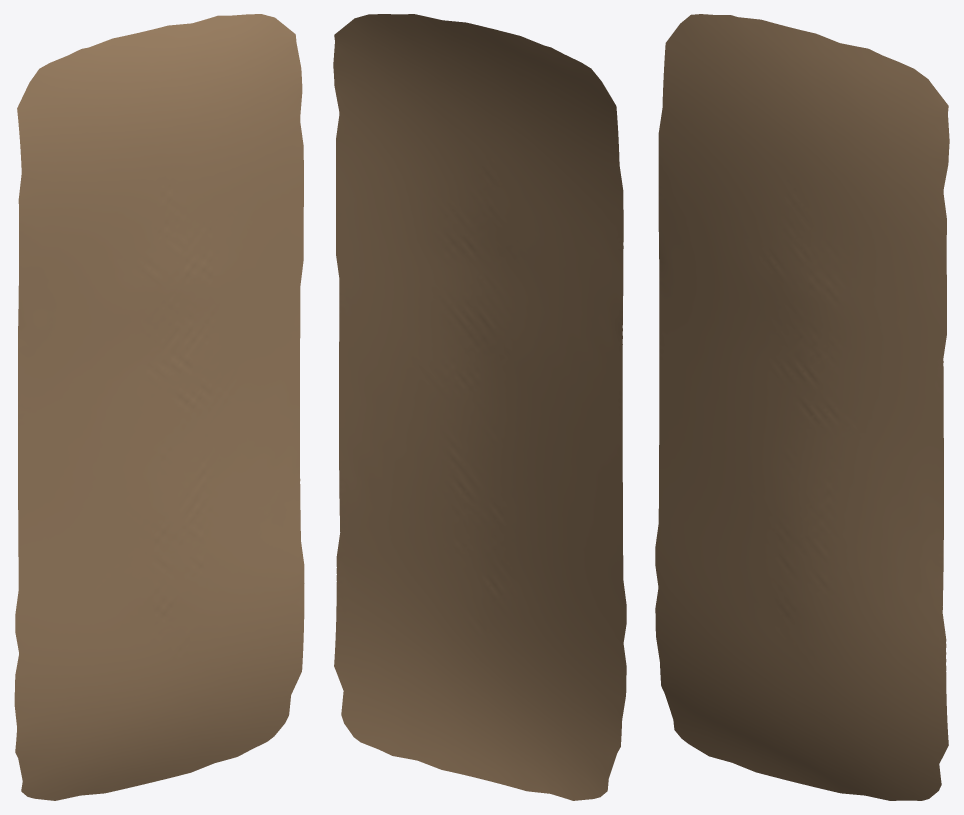
File: real_soda_can.glb
3 views of the same model, side by side, from view 1: azimuth 30°, elevation 25°; view 2: azimuth 150°, elevation 25°; view 3: azimuth 330°, elevation 25° (orthographic).
Parts seen in each view (by area): view 1: result-20251220_230811-soda_can; view 2: result-20251220_230811-soda_can; view 3: result-20251220_230811-soda_can.
Part boxes in pixels (x1=…): result-20251220_230811-soda_can: x1=14, y1=14, x2=304, y2=800; result-20251220_230811-soda_can: x1=333, y1=14, x2=626, y2=800; result-20251220_230811-soda_can: x1=655, y1=14, x2=949, y2=800.
Size of the model in its own units: 0.6801 by 1.69 by 0.0641.
